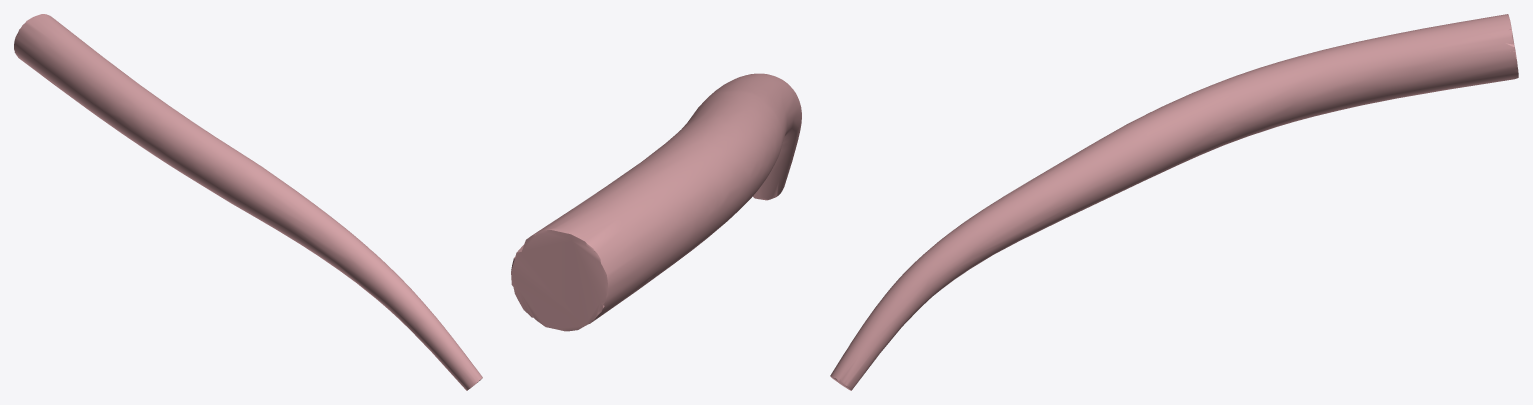
The model's file is fma68212_fj6542.glb.
3 renders of one model, left to right at view 1: azimuth 30°, elevation 25°; view 2: azimuth 150°, elevation 25°; view 3: azimuth 270°, elevation 25°, orthographic. The views are drawn at different scales.
Parts seen in each view (by area): view 1: FMA68212_FJ6542; view 2: FMA68212_FJ6542; view 3: FMA68212_FJ6542.
Part boxes in pixels (box(x1,y1,x2,y2)): FMA68212_FJ6542: box(14, 14, 482, 390); FMA68212_FJ6542: box(511, 73, 801, 331); FMA68212_FJ6542: box(830, 14, 1518, 390).
Size of the model in its own units: 0.0217 by 0.0228 by 0.0522.
